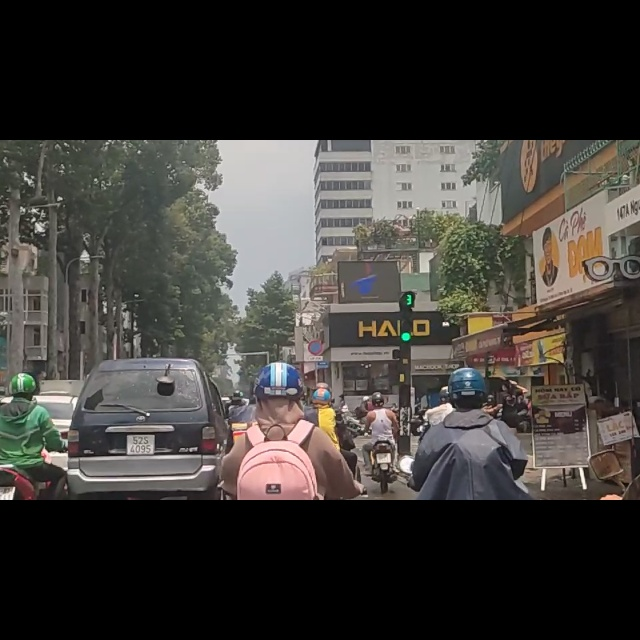bien_cam: (307, 354, 326, 385)
